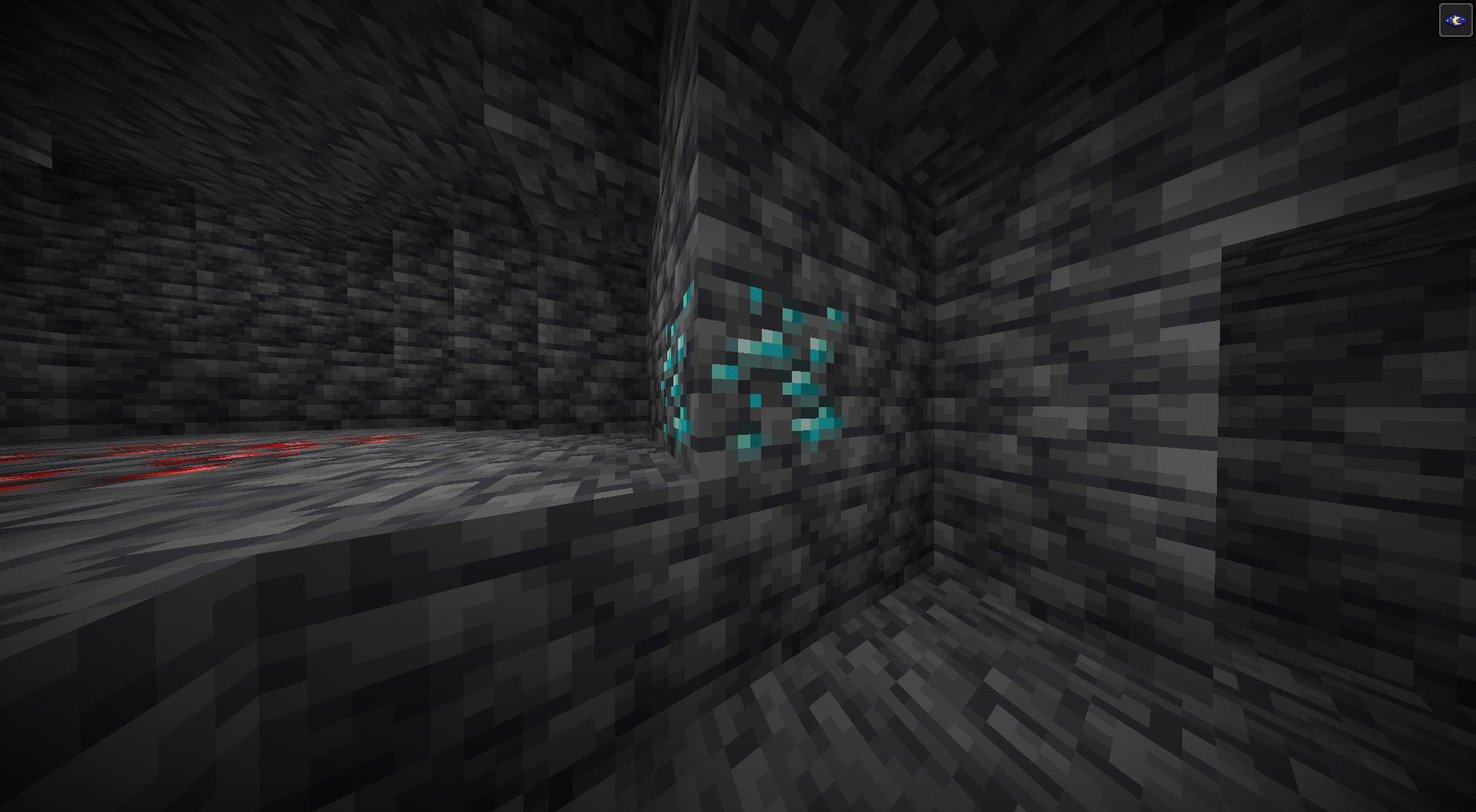diamond ore: (650, 284, 852, 462)
redstone ore: (2, 433, 414, 480)
